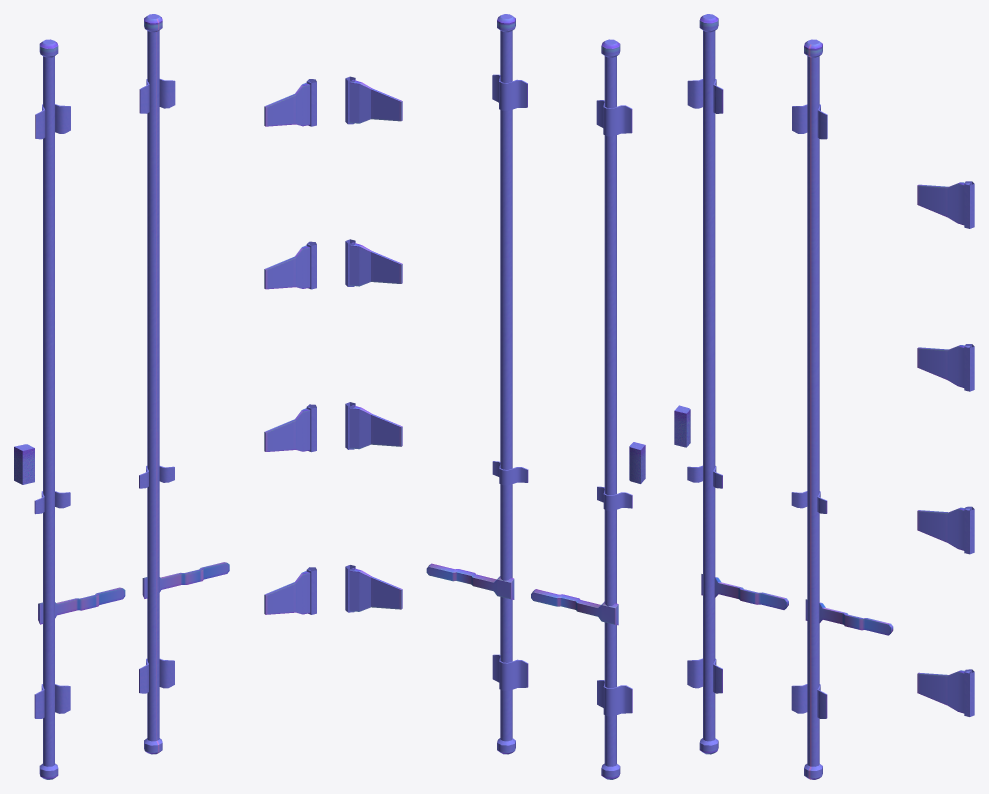
The model's file is CnMainDoorDetLA1.fbx.
3 renders of one model, left to right at view 1: azimuth 30°, elevation 25°; view 2: azimuth 150°, elevation 25°; view 3: azimuth 330°, elevation 25°, orthographic.
Parts seen in each view (by area): view 1: CnMainDoorDetLA1; view 2: CnMainDoorDetLA1; view 3: CnMainDoorDetLA1.
Part boxes in pixels (bbox=[...]): CnMainDoorDetLA1: bbox=[14, 14, 316, 779]; CnMainDoorDetLA1: bbox=[345, 14, 645, 779]; CnMainDoorDetLA1: bbox=[674, 14, 974, 779].
Size of the model in its own units: 108 by 253 by 6.11.
